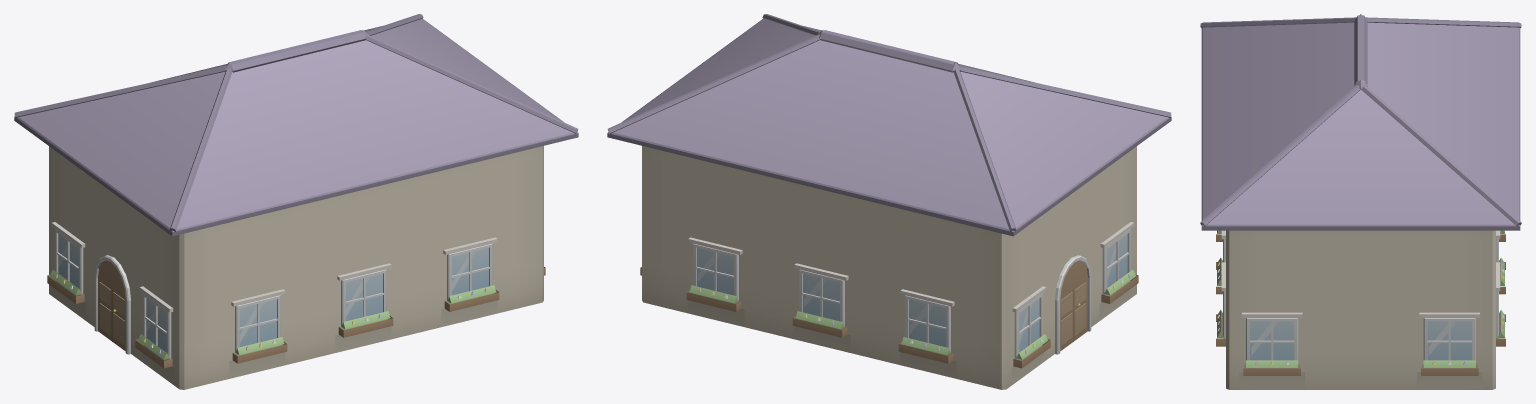
The model's file is rumahguru3_shell.glb.
The picture shows the model from 3 angles, left to right: view 1: azimuth 30°, elevation 25°; view 2: azimuth 150°, elevation 25°; view 3: azimuth 270°, elevation 25°; orthographic projection.
Visible parts, largest first — view 1: rumahguru3_body, rumahguru3_roof; view 2: rumahguru3_body, rumahguru3_roof; view 3: rumahguru3_roof, rumahguru3_body.
Boxes of the visible parts, box(x1,y1,x2,y2) form: rumahguru3_body: box(47, 146, 545, 389); rumahguru3_roof: box(14, 14, 578, 236); rumahguru3_body: box(640, 146, 1138, 389); rumahguru3_roof: box(607, 14, 1171, 236); rumahguru3_roof: box(1200, 14, 1521, 230); rumahguru3_body: box(1216, 230, 1505, 389).
Bounding box in the file's own units: 12.33 × 7.25 × 8.33.
